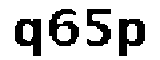5: (83, 6, 115, 52)
6: (46, 6, 81, 51)
p: (116, 13, 146, 60)
q: (12, 16, 45, 60)
